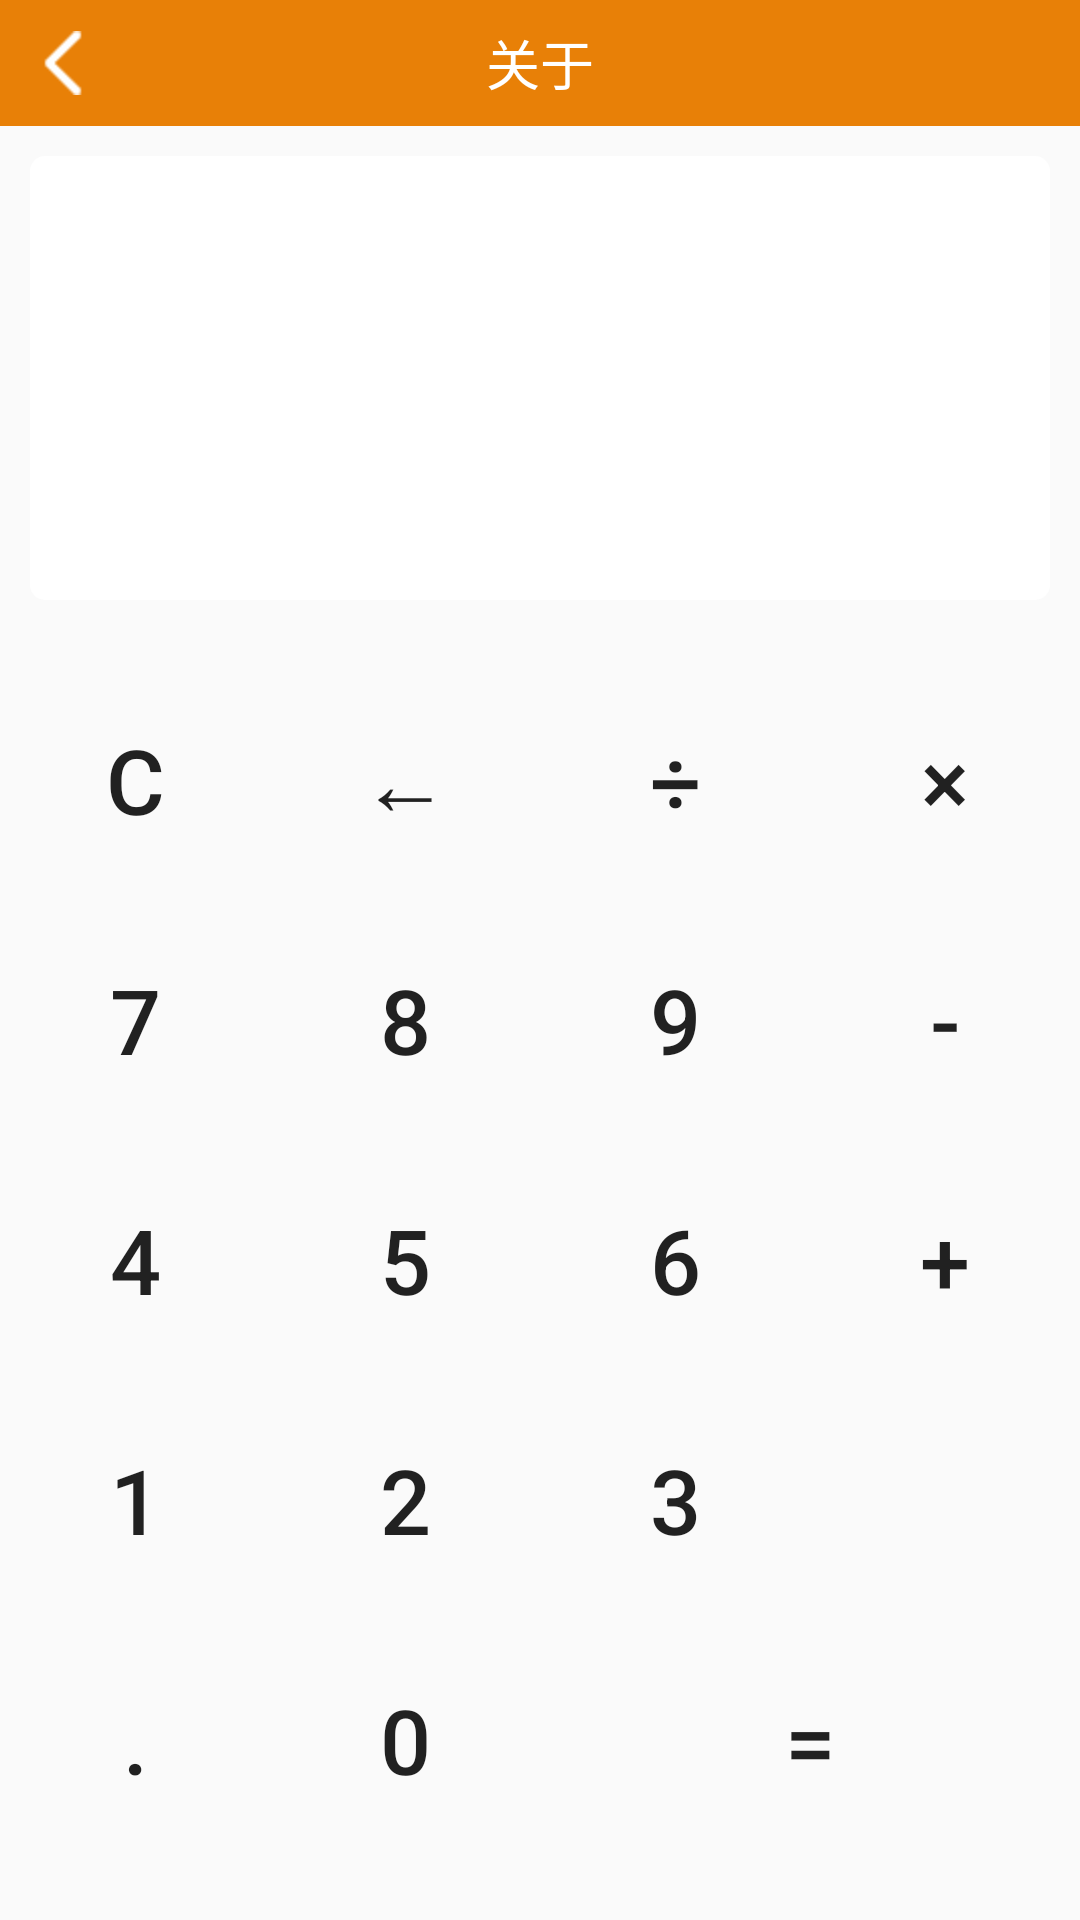

Named icons in this screenshot (1080px x 1920px) and their bounding boxes, (x1, y1, x2, y2):
back: (44, 31, 82, 95)
